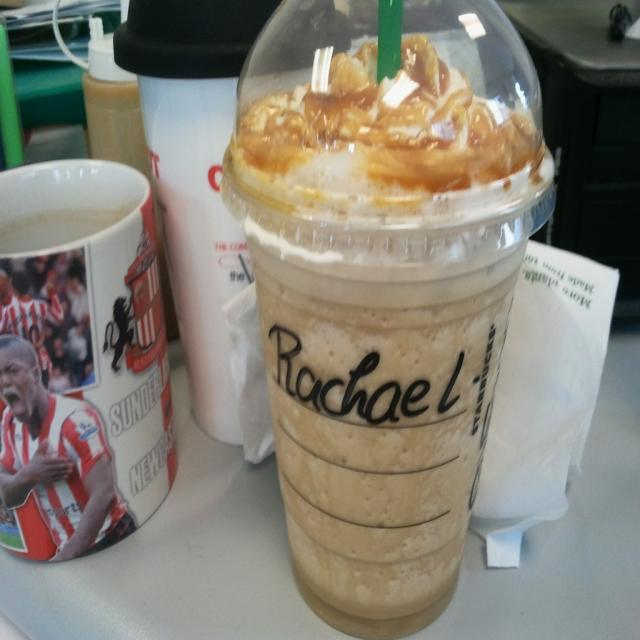Coffee: (1, 208, 125, 242)
